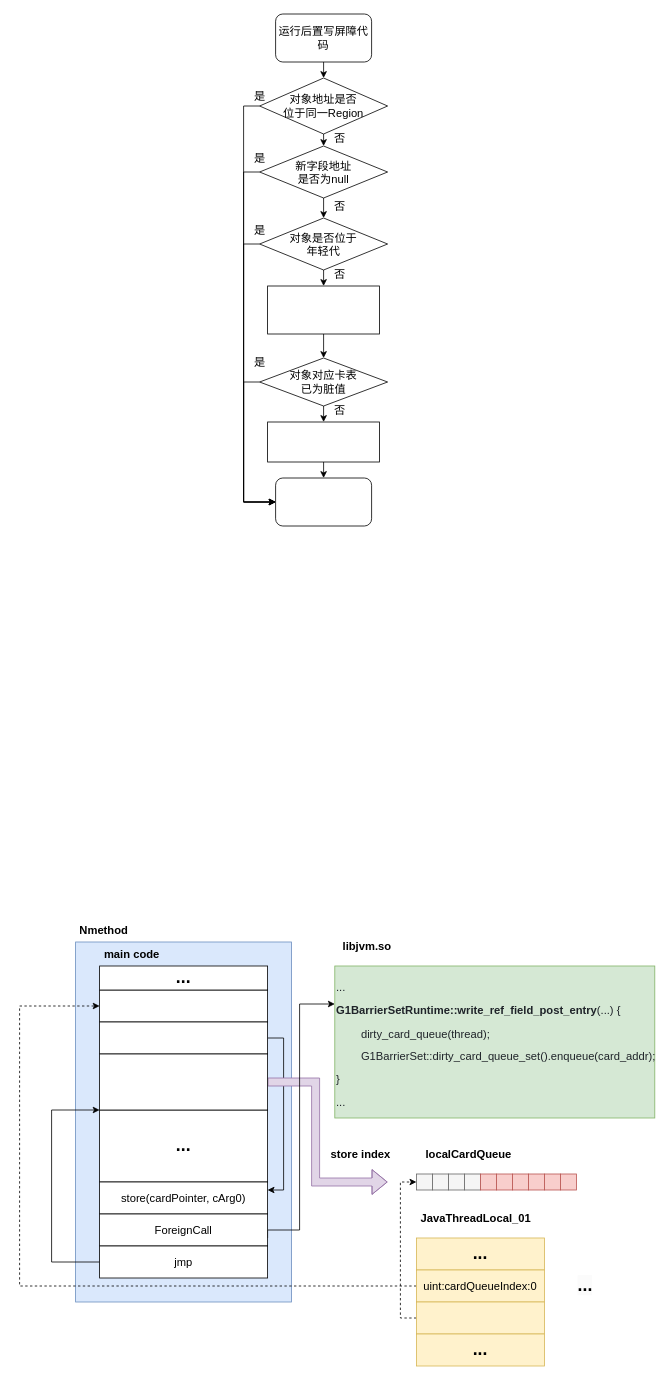
The diagram is 670 pixels wide and 1380 high, and some of its shapes have lost their labels. The centre of each missing label's shape, as x and y in pixels:
addr: cardQueueBuffer: (480,1317)
cbz(scratch, runtime): (183,1037)
fast path: (183,1081)
load(scratch, cardQueueIndex): (183,1005)
结束: (323,501)
计算对象卡表地址: (323,309)
记录需要设置为脏表的卡表地址: (323,441)
